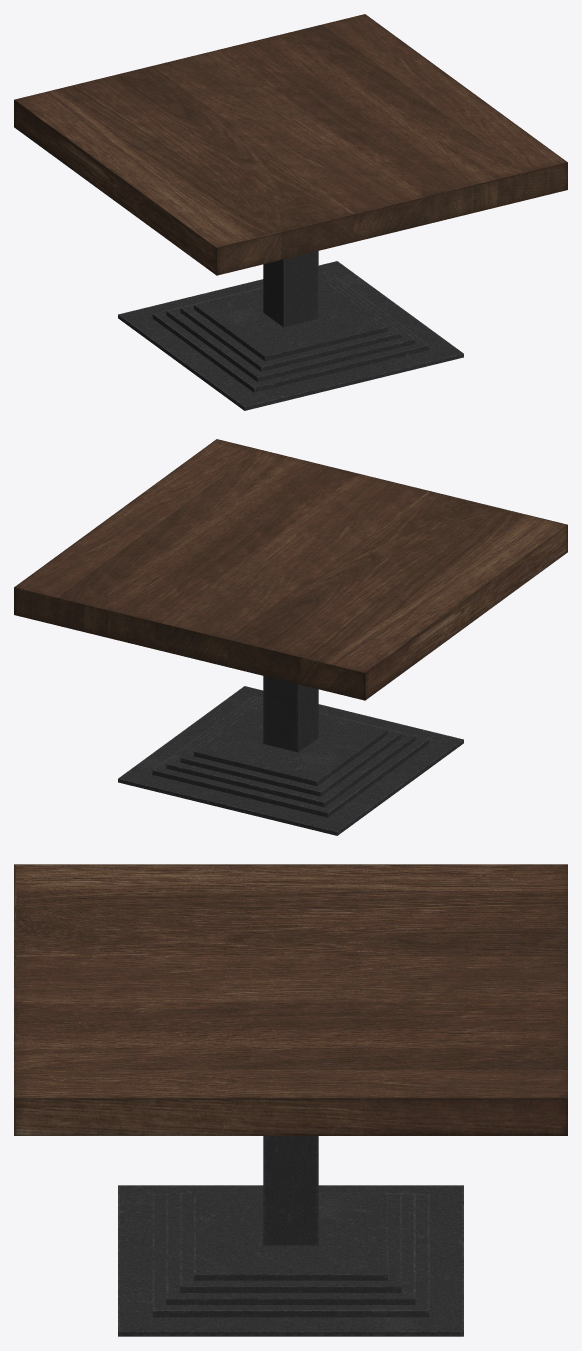
Rendered from table_02_lowpoly_pbr_texture.glb.
The picture shows the model from 3 angles, top to bottom: view 1: azimuth 30°, elevation 25°; view 2: azimuth 150°, elevation 25°; view 3: azimuth 270°, elevation 25°; orthographic projection. The views are drawn at different scales.
Parts seen in each view (by area): view 1: re_tb_02_0; view 2: re_tb_02_0; view 3: re_tb_02_0.
Boxes of the visible parts, x1,y1,x2,y2 form: re_tb_02_0: (14,14,567,410); re_tb_02_0: (14,439,567,835); re_tb_02_0: (14,864,567,1336).
Bounding box in the file's own units: 0.8 × 0.45 × 0.8.
1 material, 1 textured.
